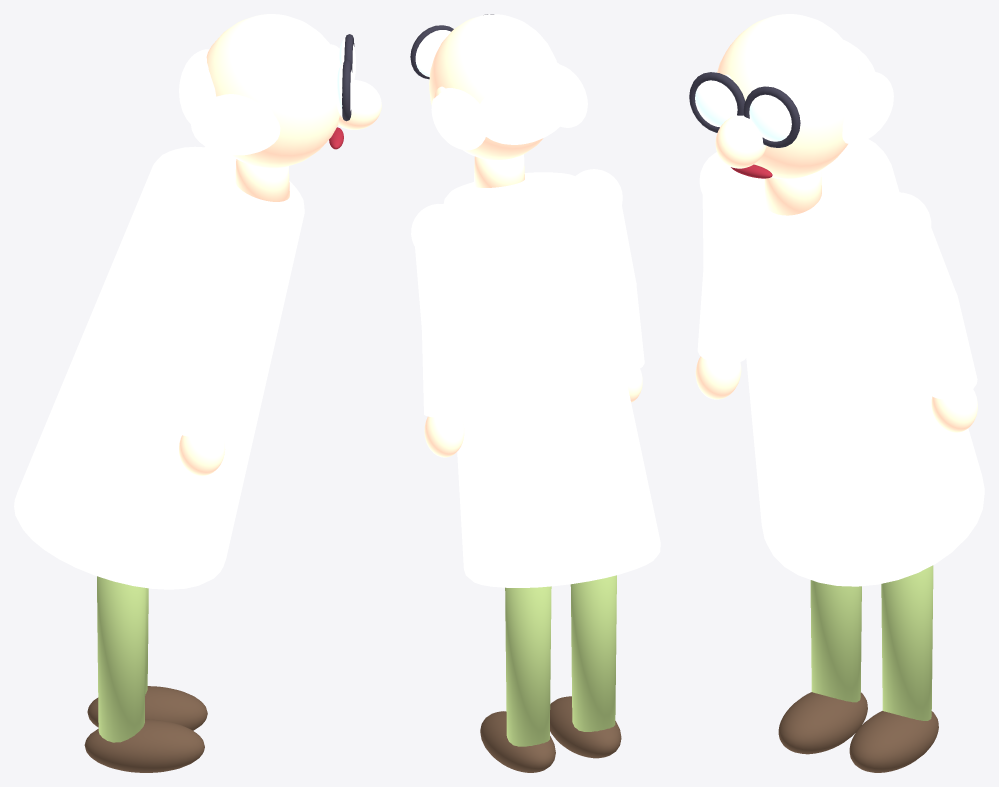
File: prof.glb
3 views of the same model, side by side, from view 1: azimuth 30°, elevation 25°; view 2: azimuth 150°, elevation 25°; view 3: azimuth 270°, elevation 25° (orthographic). The views are drawn at different scales.
Visible parts, largest first — view 1: Pf_Kittel.001, Pf_Kopf.001, Pf_BeinR.001, Pf_OAR.001, Pf_SchuhR.001, Pf_UAR.001, Pf_HaarkranzR.001, Pf_ShKR.001, Pf_SchuhL.001, Pf_Hals.001, Pf_Hinterkopf.001, Pf_HandR.001 (+1 smaller); view 2: Pf_Kittel.001, Pf_Kopf.001, Pf_BeinL.001, Pf_BeinR.001, Pf_Hinterkopf.001, Pf_OAL.001, Pf_UAL.001, Pf_HaarkranzL.001, Pf_OAR.001, Pf_SchuhL.001, Pf_SchuhR.001, Pf_ShKL.001 (+7 smaller); view 3: Pf_Kittel.001, Pf_Kopf.001, Pf_BeinL.001, Pf_BeinR.001, Pf_UAL.001, Pf_OAL.001, Pf_SchuhL.001, Pf_SchuhR.001, Pf_UAR.001, Pf_ShKL.001, Pf_HaarkranzL.001, Pf_OAR.001 (+9 smaller).
Boxes of the visible parts, x1,y1,x2,y2 form: Pf_Kittel.001: (14,146,304,589); Pf_Kopf.001: (206,14,340,168); Pf_BeinR.001: (97,576,146,742); Pf_OAR.001: (175,255,243,351); Pf_SchuhR.001: (84,719,204,772); Pf_UAR.001: (174,343,226,437); Pf_HaarkranzR.001: (191,94,280,155); Pf_ShKR.001: (189,216,250,269); Pf_SchuhL.001: (87,686,207,730); Pf_Hals.001: (235,159,289,201); Pf_Hinterkopf.001: (179,49,216,123); Pf_HandR.001: (179,433,225,475); Pf_Kittel.001: (443,172,660,587); Pf_Kopf.001: (429,14,558,159); Pf_BeinL.001: (505,586,551,746); Pf_BeinR.001: (570,575,616,731); Pf_Hinterkopf.001: (479,76,571,144); Pf_OAL.001: (415,243,470,330); Pf_UAL.001: (422,329,470,418); Pf_HaarkranzL.001: (431,88,486,150); Pf_OAR.001: (592,205,635,295); Pf_SchuhL.001: (480,711,555,772); Pf_SchuhR.001: (550,696,621,758); Pf_ShKL.001: (411,204,465,247); Pf_Kittel.001: (731,139,984,586); Pf_Kopf.001: (717,14,859,179); Pf_BeinL.001: (881,565,933,720); Pf_BeinR.001: (810,580,861,702); Pf_UAL.001: (905,299,977,399); Pf_OAL.001: (878,228,957,321); Pf_SchuhL.001: (849,711,938,772); Pf_SchuhR.001: (778,692,867,754); Pf_UAR.001: (697,268,746,364); Pf_ShKL.001: (868,192,931,254); Pf_HaarkranzL.001: (842,71,893,143); Pf_OAR.001: (702,195,738,282).
Size of the model in its own units: 0.7189 by 1.75 by 0.6001.
